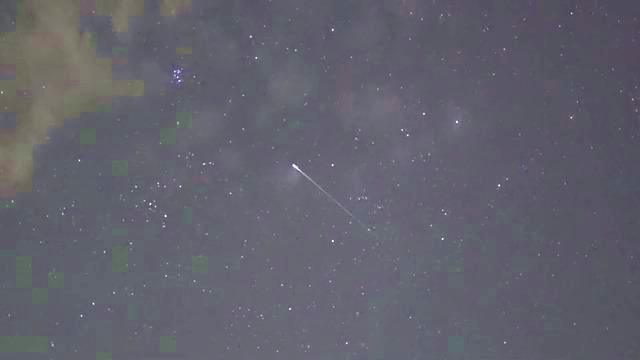meteorite: (272, 155, 383, 236)
